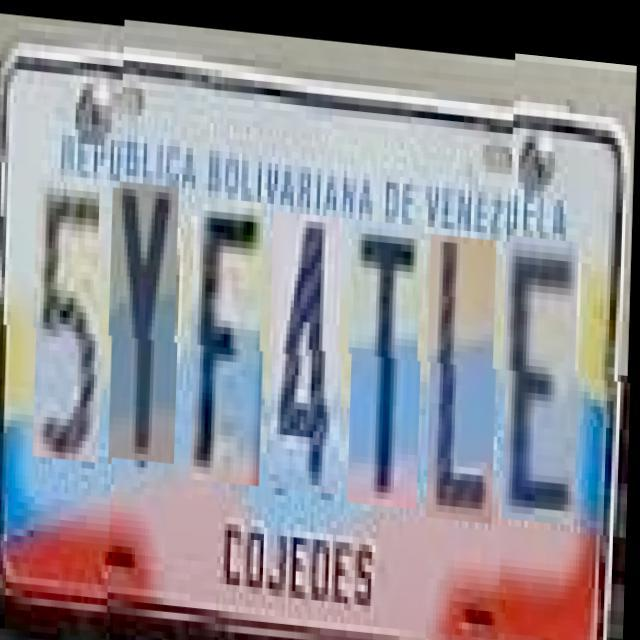4: (272, 205, 346, 487)
5: (36, 172, 108, 454)
E: (504, 230, 584, 520)
F: (192, 192, 268, 480)
L: (429, 225, 501, 512)
T: (350, 212, 426, 500)
Y: (112, 178, 184, 460)
